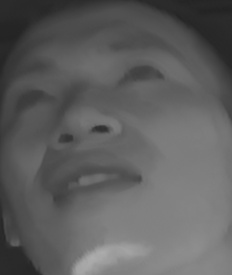eye: (117, 58, 167, 96), (13, 82, 55, 116)
mouth: (42, 154, 143, 215)
